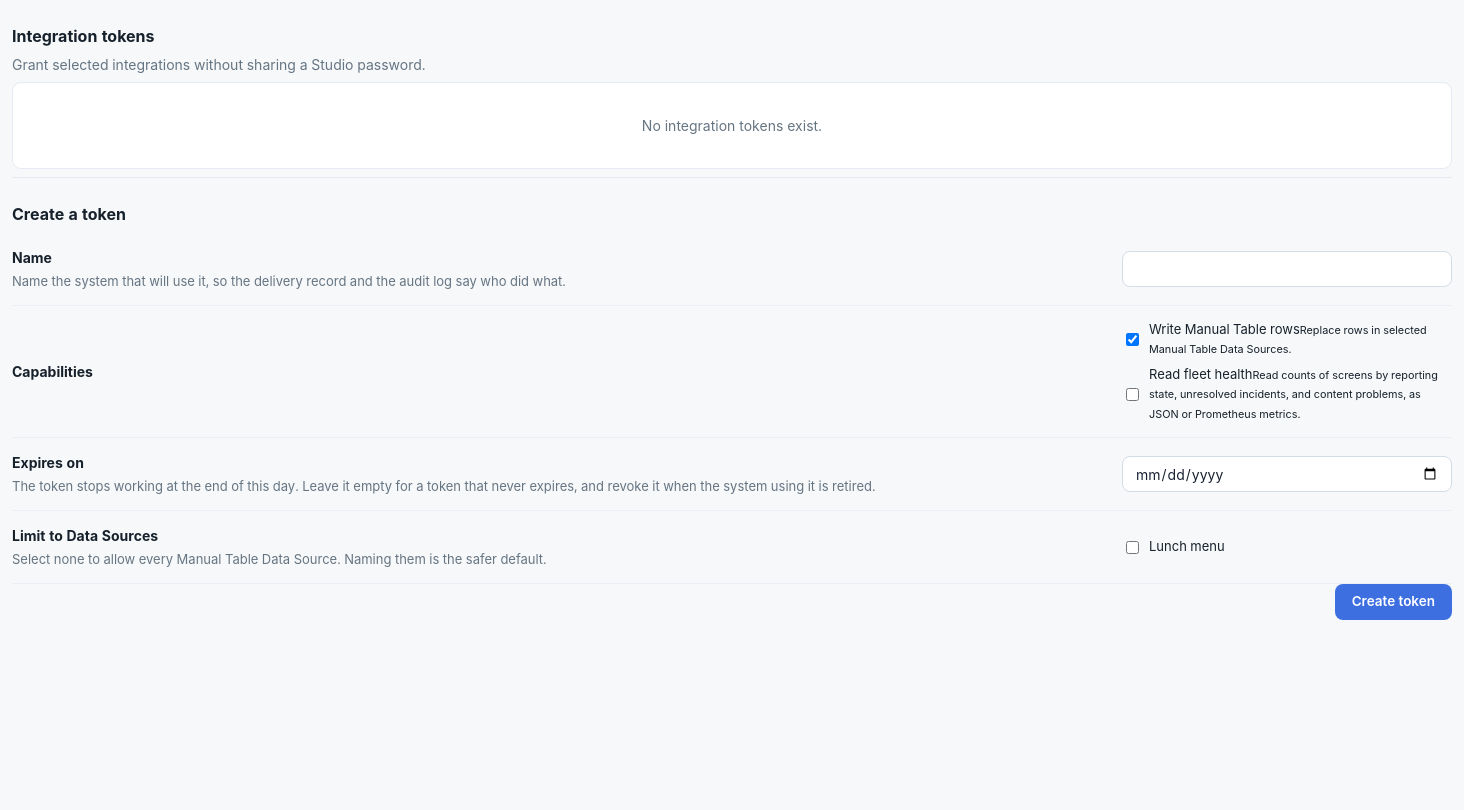
Test: Integration tokens › marks a newly created token as shown once
The width and height of the screenshot is (1464, 810).
Type "Menu importer" into the field labelled "Name" at coordinates (1287, 269), box [1122,251,1452,287]
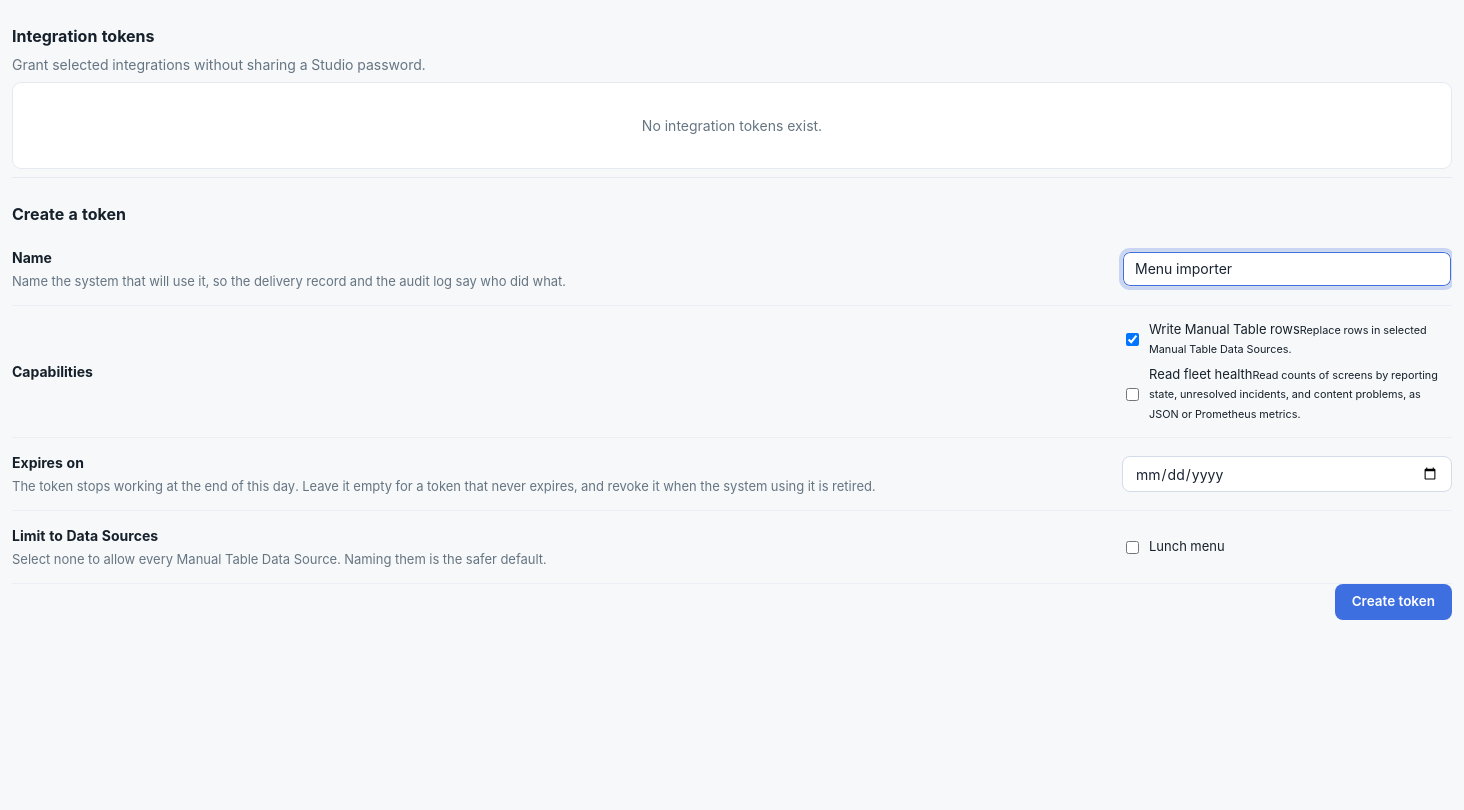
Click the button "Create token" at coordinates (1393, 602), box [1335,584,1452,620]
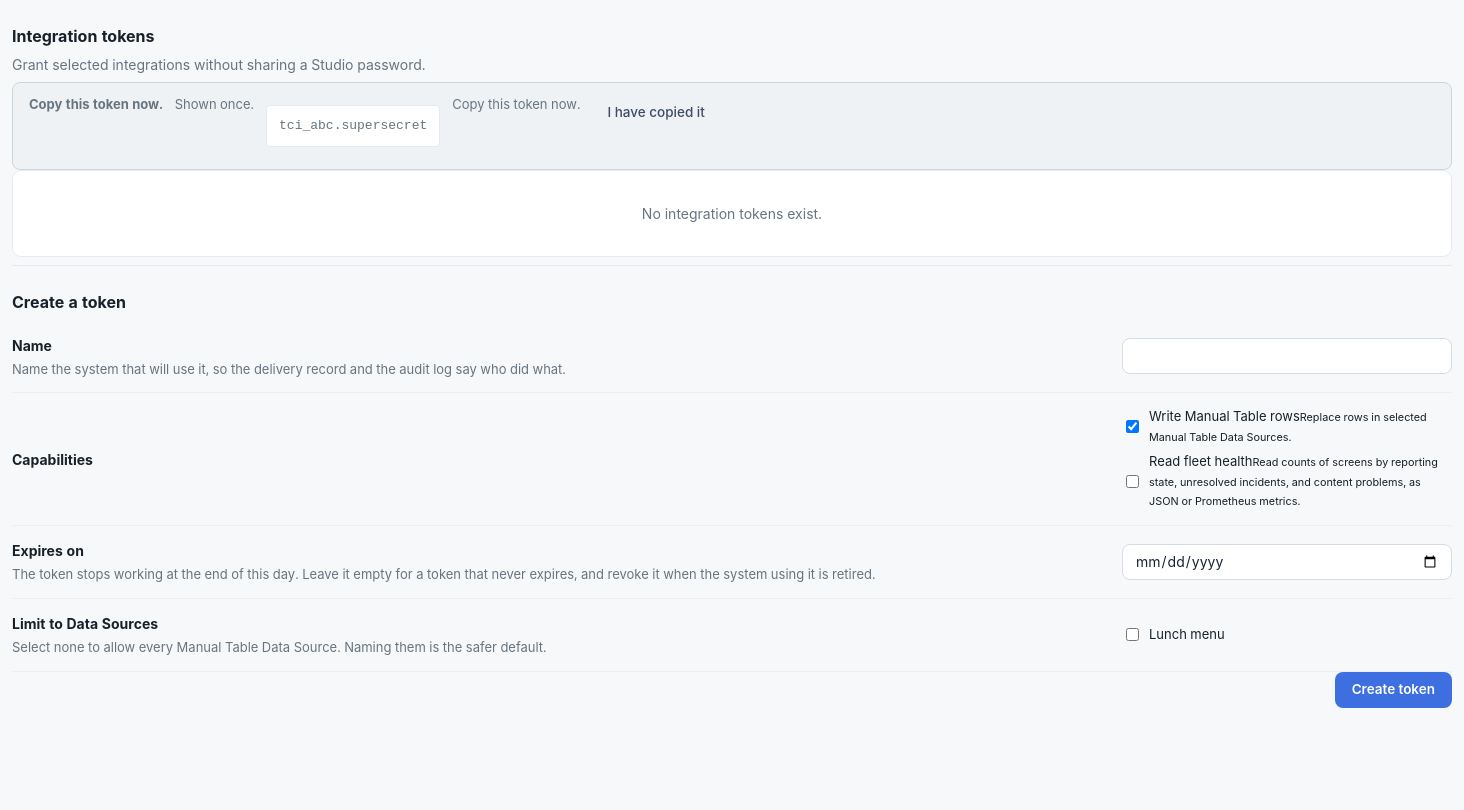
Now the text "tci_abc.supersecret" is shown, box [266,105,440,146]
Now the text "Shown once" is shown, box [175,96,254,112]
